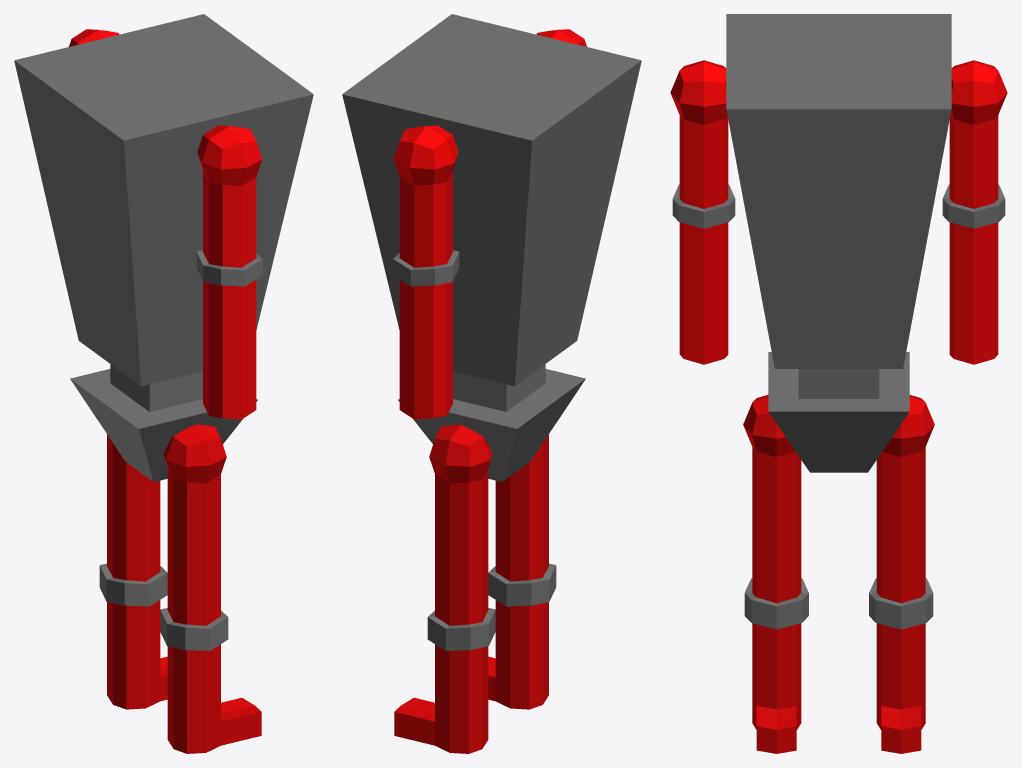
The model's file is robot kafası eksik.fbx.
3 renders of one model, left to right at view 1: azimuth 30°, elevation 25°; view 2: azimuth 150°, elevation 25°; view 3: azimuth 270°, elevation 25°, orthographic. The views are drawn at different scales.
Visible parts, largest first — view 1: Cube.009, Cube.010, Cube.011; view 2: Cube.009, Cube.010, Cube.011; view 3: Cube.009, Cube.010, Cube.011.
Part boxes in pixels (left/top/right/bottom): Cube.009: left=14, top=14, right=313, bottom=481; Cube.010: left=99, top=424, right=261, bottom=753; Cube.011: left=69, top=29, right=262, bottom=419; Cube.009: left=342, top=14, right=641, bottom=481; Cube.010: left=394, top=424, right=556, bottom=753; Cube.011: left=393, top=29, right=586, bottom=419; Cube.009: left=726, top=14, right=951, bottom=472; Cube.010: left=743, top=395, right=934, bottom=753; Cube.011: left=670, top=60, right=1007, bottom=364.
Bounding box in the file's own units: 282 × 916 × 422.
